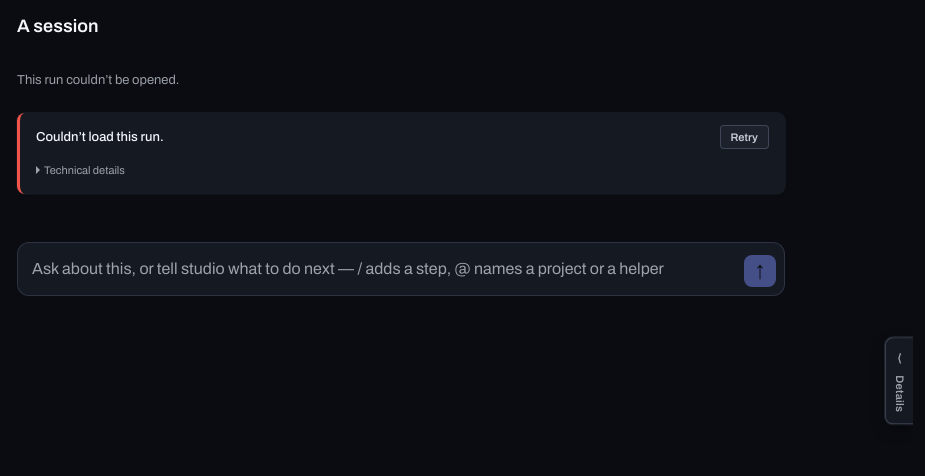
Test case: studio#675 — an archived run opened from the Archived list resolves › a failed read (not a 404) says so with a retry, and the retry reads again
Click the button with test id "session-run-detail-error-retry" at (744, 137), box [720,125,769,149]
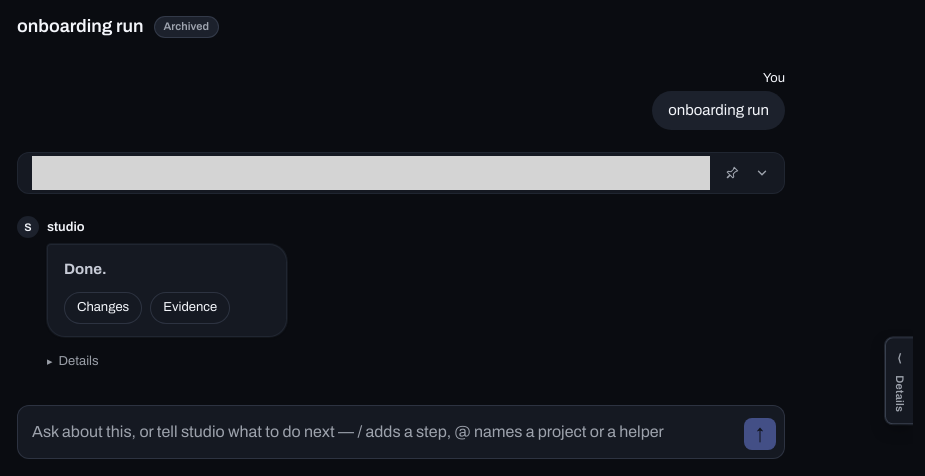
Expected: the message with test id "session-run-detail-error" is gone
